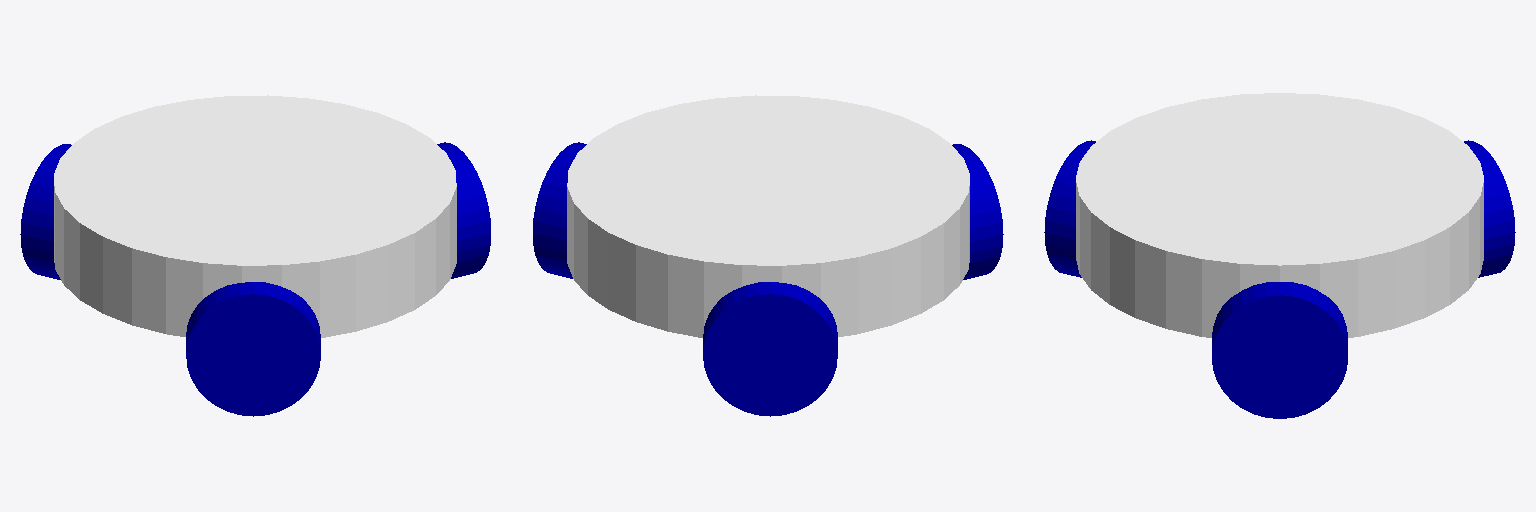
The robot description file, URDF, robot "wheeltec_robot":
<?xml version="1.0" ?>
<robot name="wheeltec_robot">

    <link name="base_link">
        <visual>
            <origin xyz=" 0 0 0.09" rpy="0 0 0" />
            <geometry>
                <cylinder length="0.08" radius="0.19"/>
            </geometry>
            <material name="white">
                <color rgba="1 1 1 1"/>
            </material>
        </visual>
    </link>   

    <link name="front_wheel">
        <visual>
            <origin rpy="0 1.57 0" xyz="0 0 0.05"/>
            <geometry>
                <cylinder length="0.04" radius="0.0635"/>
            </geometry>
            <material name="black">
                <color rgba="0 0 0.8 1"/>
            </material>
        </visual>
    </link>

    <link name="left_wheel">
        <visual>
            <origin rpy="0 1.57 -1.05" xyz="0 0 0.05"/>
            <geometry>
                <cylinder length="0.04" radius="0.0635"/>
            </geometry>
            <material name="blue">
                <color rgba="0 0 0.8 1"/>
            </material>
        </visual>
    </link>

    <link name="right_wheel">
        <visual>
            <origin rpy="0 1.57 1.05" xyz="0 0 0.05"/>
            <geometry>
                <cylinder length="0.04" radius="0.0635"/>
            </geometry>
            <material name="blue">
                <color rgba="0 0 0.8 1"/>
            </material>
        </visual>
    </link>

    <joint name="base_to_front_wheel" type="fixed">
        <parent link="base_link"/>
        <child link="front_wheel"/>
        <origin rpy="0 0 0" xyz="0.2 0 0.0"/>
    </joint>

    <joint name="base_to_left_wheel" type="fixed">
        <parent link="base_link"/>
        <child link="left_wheel"/>
        <origin rpy="0 0 0" xyz="-0.1 0.17 0.0"/>
    </joint>

    <joint name="base_to_right_wheel" type="fixed">
        <parent link="base_link"/>
        <child link="right_wheel"/>
        <origin rpy="0 0 0" xyz="-0.1 -0.17 0.0"/>
    </joint>

    </robot>

--- Facts derived from the render (not from the file) ---
The picture shows the robot from 3 angles, left to right: view 1: azimuth 30°, elevation 25°; view 2: azimuth 150°, elevation 25°; view 3: azimuth 270°, elevation 25°; orthographic projection.
Robot: wheeltec_robot — 4 links, 3 joints (3 fixed); root link base_link; default pose: every joint at zero.
Links seen in each view (by area): view 1: base_link, right_wheel, front_wheel, left_wheel; view 2: base_link, left_wheel, front_wheel, right_wheel; view 3: base_link, front_wheel, left_wheel, right_wheel.
Link boxes in pixels (<box>): base_link: <box>54,95,456,337</box>; right_wheel: <box>186,282,320,416</box>; front_wheel: <box>437,142,490,278</box>; left_wheel: <box>20,144,71,279</box>; base_link: <box>567,95,969,337</box>; left_wheel: <box>703,282,837,416</box>; front_wheel: <box>533,142,586,278</box>; right_wheel: <box>952,144,1003,279</box>; base_link: <box>1076,93,1483,337</box>; front_wheel: <box>1212,282,1347,418</box>; left_wheel: <box>1464,140,1515,277</box>; right_wheel: <box>1044,140,1095,277</box>.
Bounding box of the posed robot: 0.4101 × 0.4379 × 0.1435 m (x, y, z).
Geometry: primitives only (box / cylinder / sphere), no mesh files.
